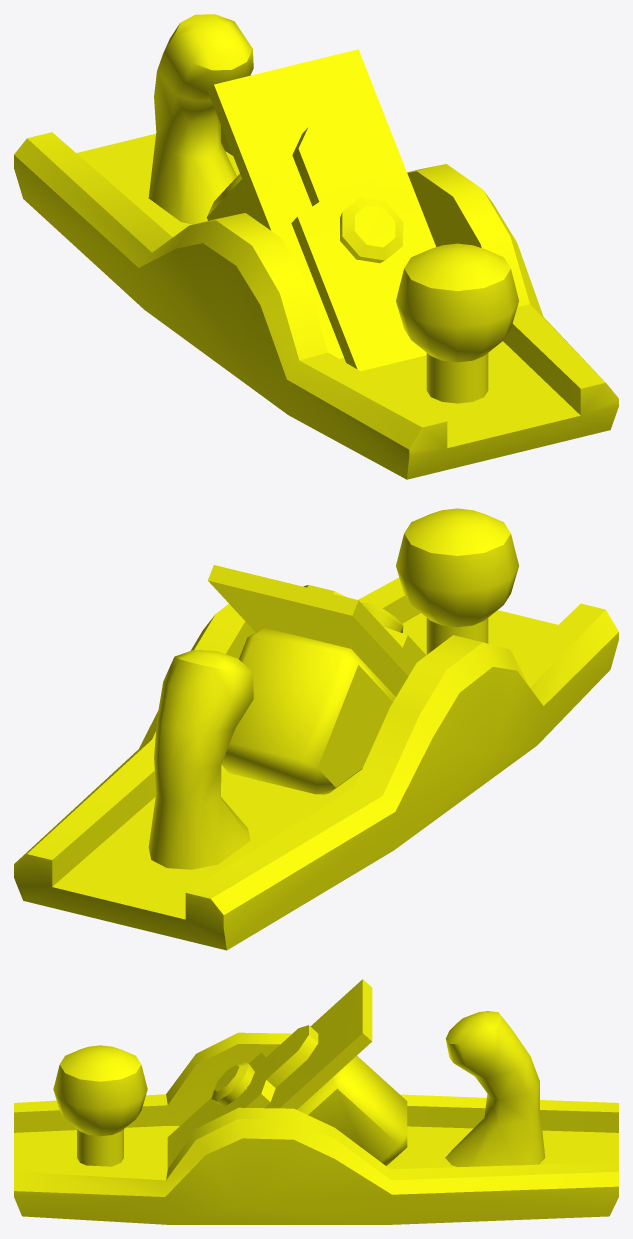
Rendered from kaykit-handplane.glb.
The picture shows the model from 3 angles, top to bottom: view 1: azimuth 30°, elevation 25°; view 2: azimuth 150°, elevation 25°; view 3: azimuth 270°, elevation 25°; orthographic projection. The views are drawn at different scales.
Parts seen in each view (by area): view 1: handplane; view 2: handplane; view 3: handplane.
Boxes of the visible parts, x1,y1,x2,y2 form: handplane: [14, 14, 618, 479]; handplane: [14, 508, 618, 950]; handplane: [14, 979, 618, 1224].
Bounding box in the file's own units: 0.3967 × 0.3417 × 1.06.
